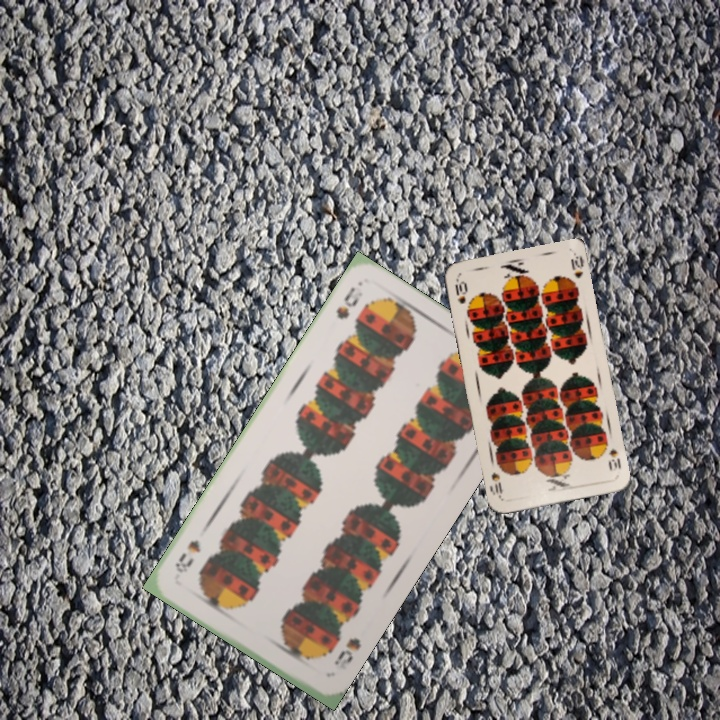S10: (604, 444, 624, 474), (451, 275, 468, 306)
S8: (330, 633, 364, 673), (332, 282, 362, 322)
